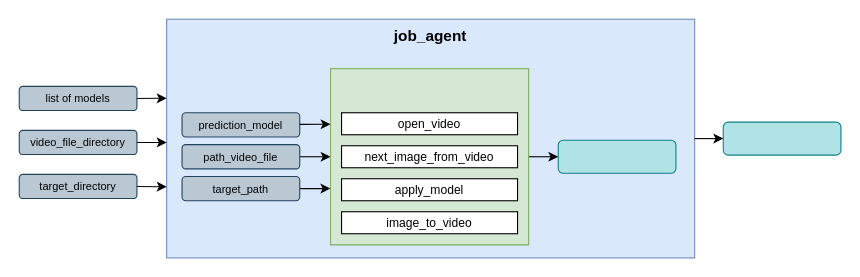
Some shapes in this 860 by 277 pixel diagram are drawn without their labels. Here are the shapes that lost their labels. From the top down, the box of each, then its label:
(329, 68, 529, 245): convert_video
(557, 139, 676, 173): new video file @targetpath
(722, 121, 841, 155): converted video files @targetdirectory
